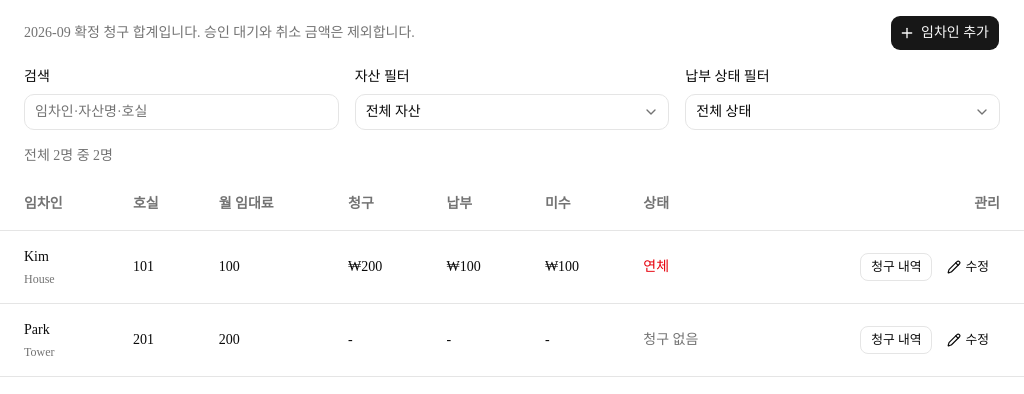
Test: shows combined charges and filters tenants by status and property
Expected: the text "₩200" is shown, top-left (332, 231), bottom-right (430, 304)
Expected: the text "연체" is shown, top-left (643, 259), bottom-right (669, 274)
Select "청구 없음" in the dropdown labelled "납부 상태 필터" at [843, 112], box top-left (685, 94), bottom-right (1000, 130)
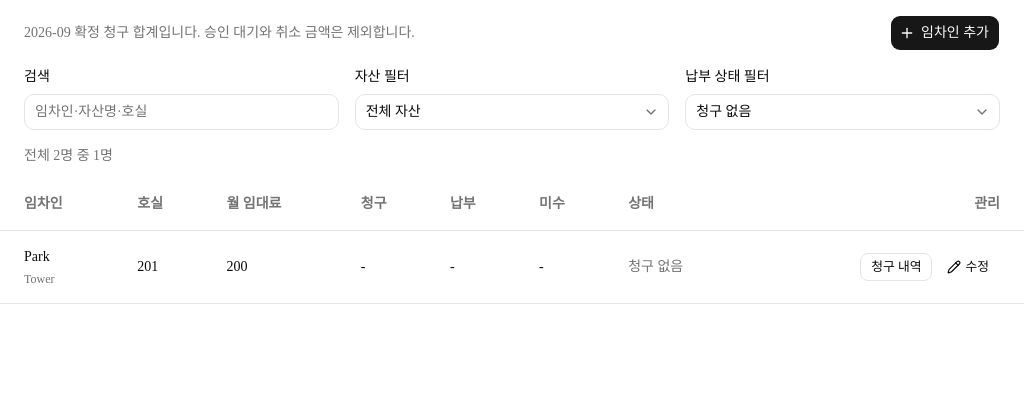
Expected: the text "Park" is shown, top-left (24, 249), bottom-right (50, 264)
Expected: the text "Kim" is gone
Select "House" in the dropdown labelled "자산 필터" at [512, 112], box top-left (355, 94), bottom-right (669, 130)
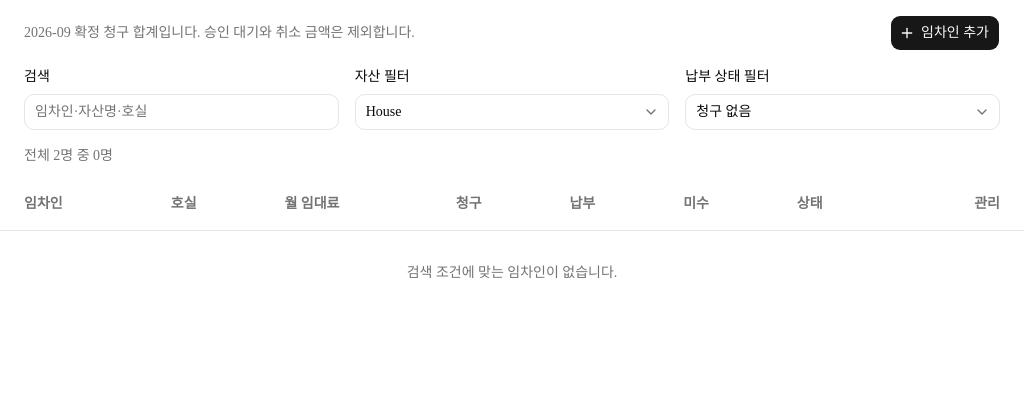
Expected: the text "Park" is gone
